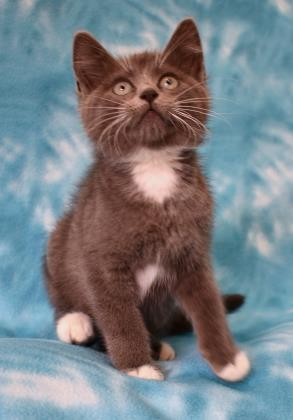rblue: (59, 17, 239, 171)
